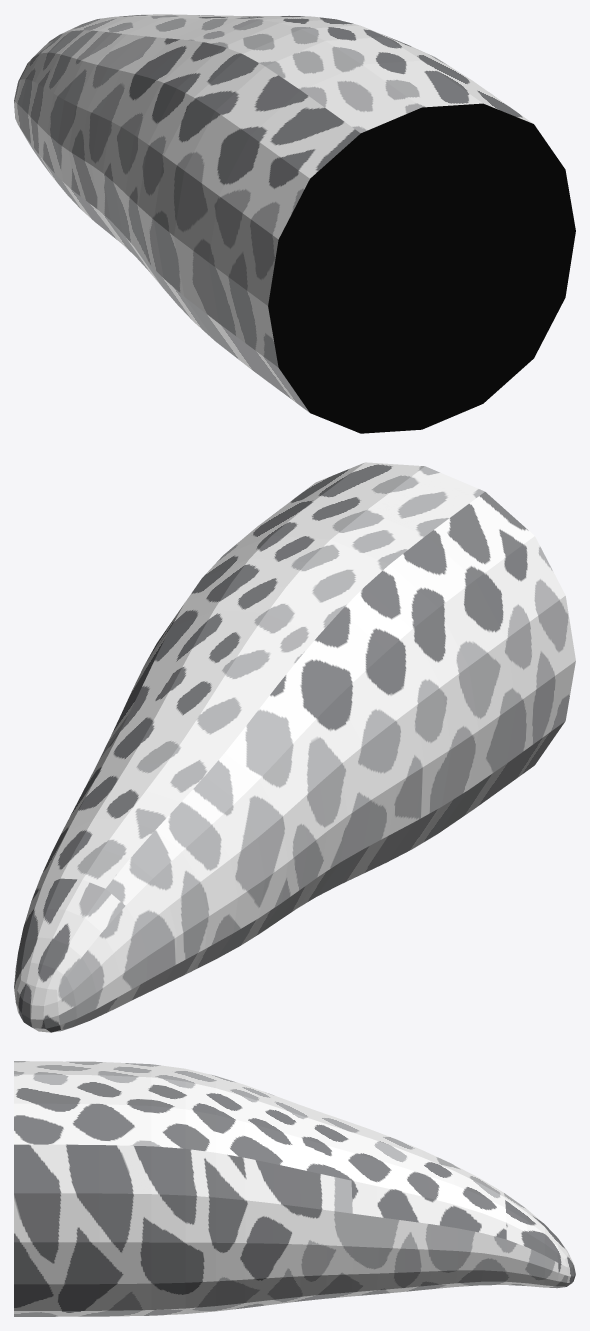
Rendered from snek_tail_texture.glb.
The picture shows the model from 3 angles, top to bottom: view 1: azimuth 30°, elevation 25°; view 2: azimuth 150°, elevation 25°; view 3: azimuth 270°, elevation 25°; orthographic projection. The views are drawn at different scales.
Visible parts, largest first — view 1: Cube.002; view 2: Cube.002; view 3: Cube.002.
Boxes of the visible parts, x1=… form: Cube.002: x1=14, y1=14, x2=575, y2=433; Cube.002: x1=14, y1=462, x2=575, y2=1032; Cube.002: x1=14, y1=1061, x2=575, y2=1316.
Bounding box in the file's own units: 4.67 × 4.67 × 10.37.
Materials: 1 (1 with a texture image).
